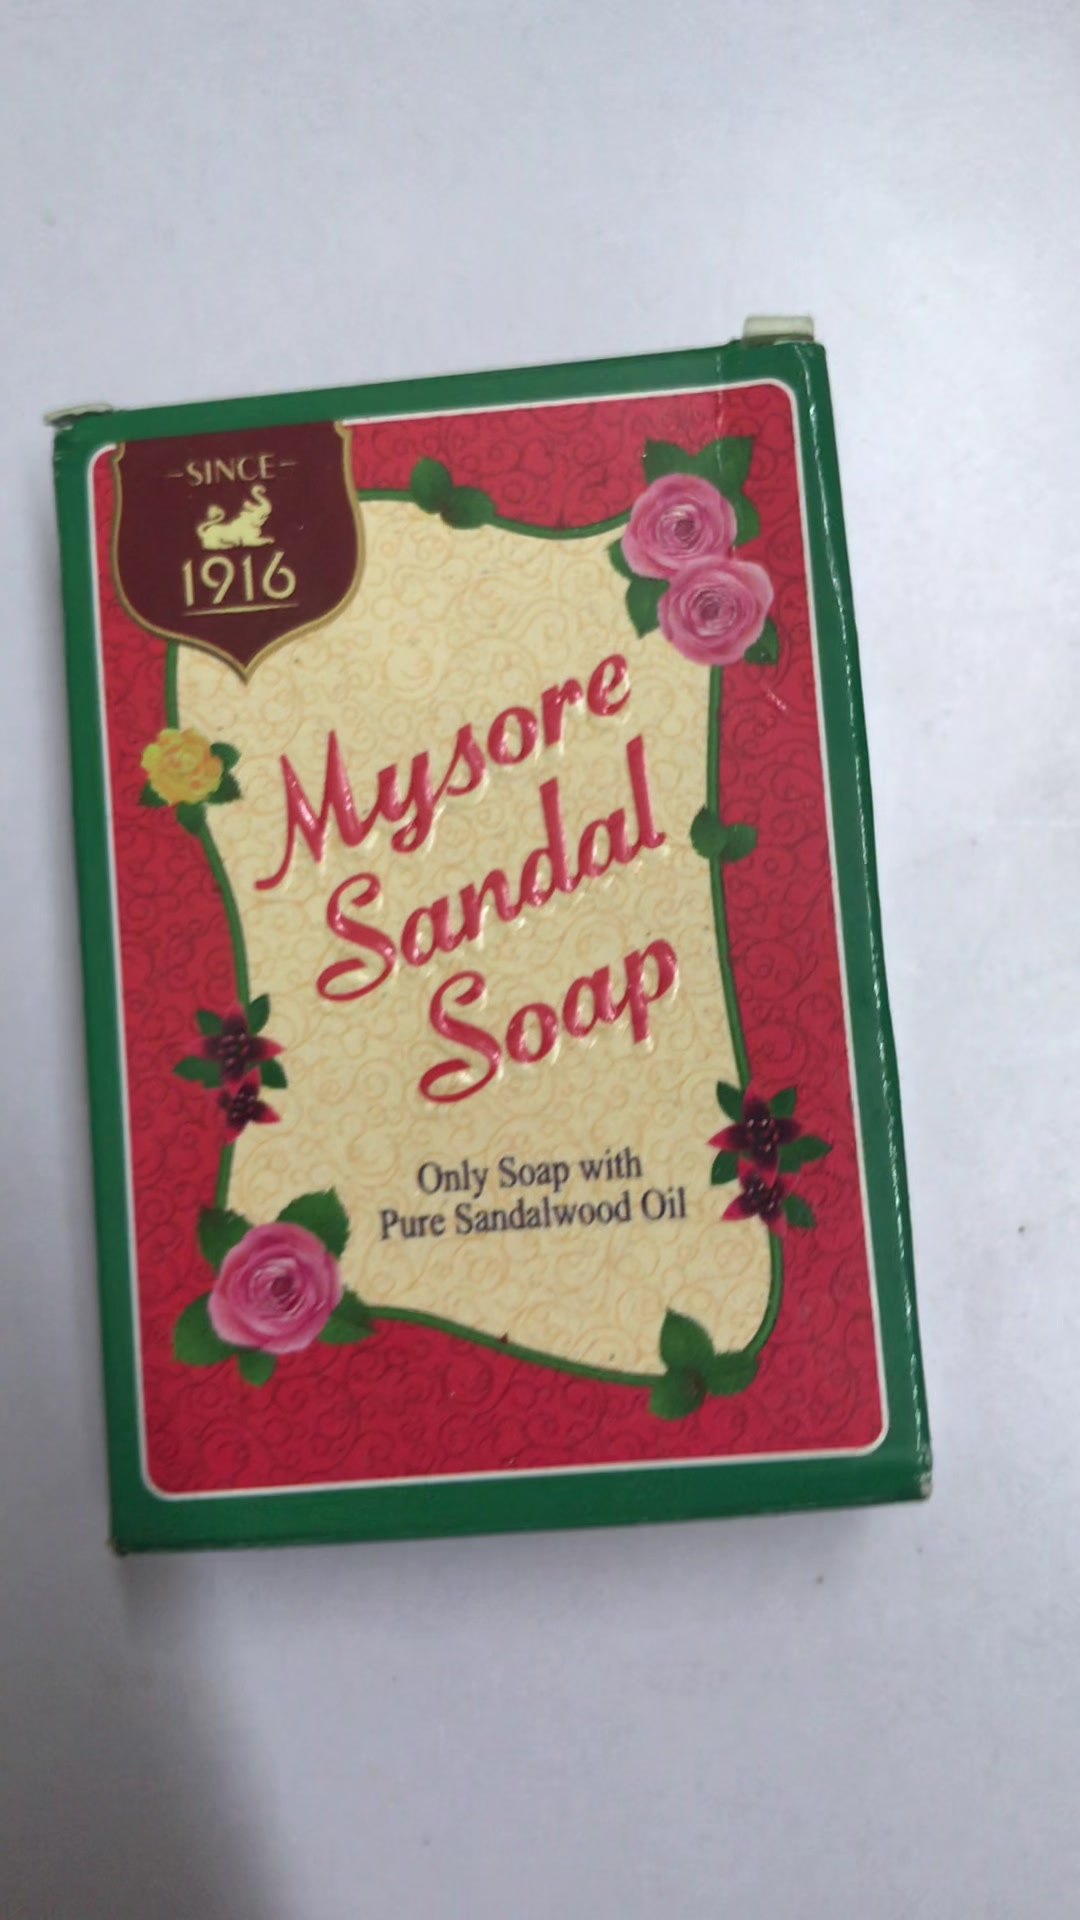mysore sandal soap: (59, 344, 926, 1549)
